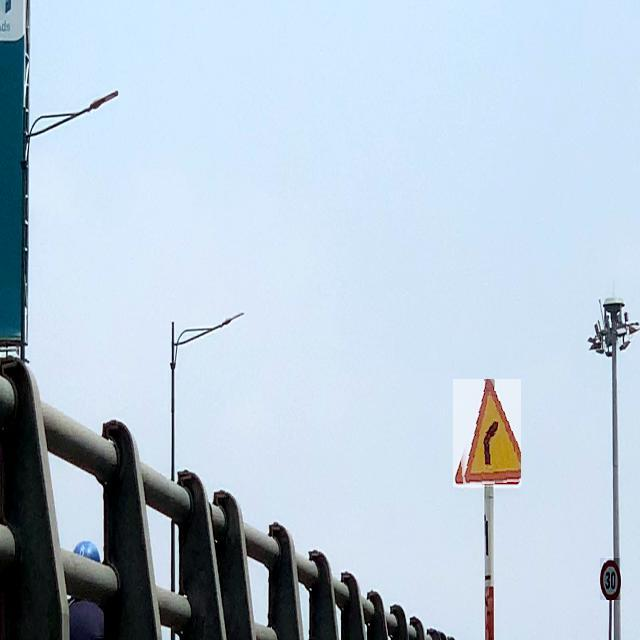P-127: (600, 559, 621, 601)
W-201b: (453, 380, 521, 488)
